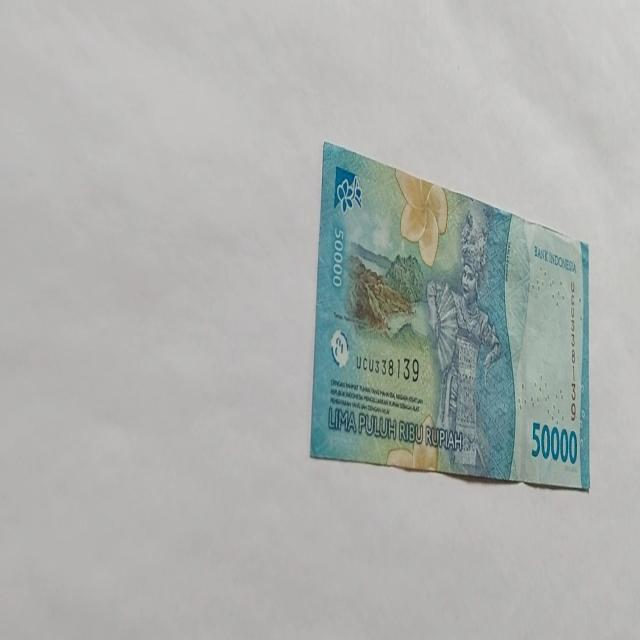lima puluh ribu rupiah: (309, 140, 591, 492)
